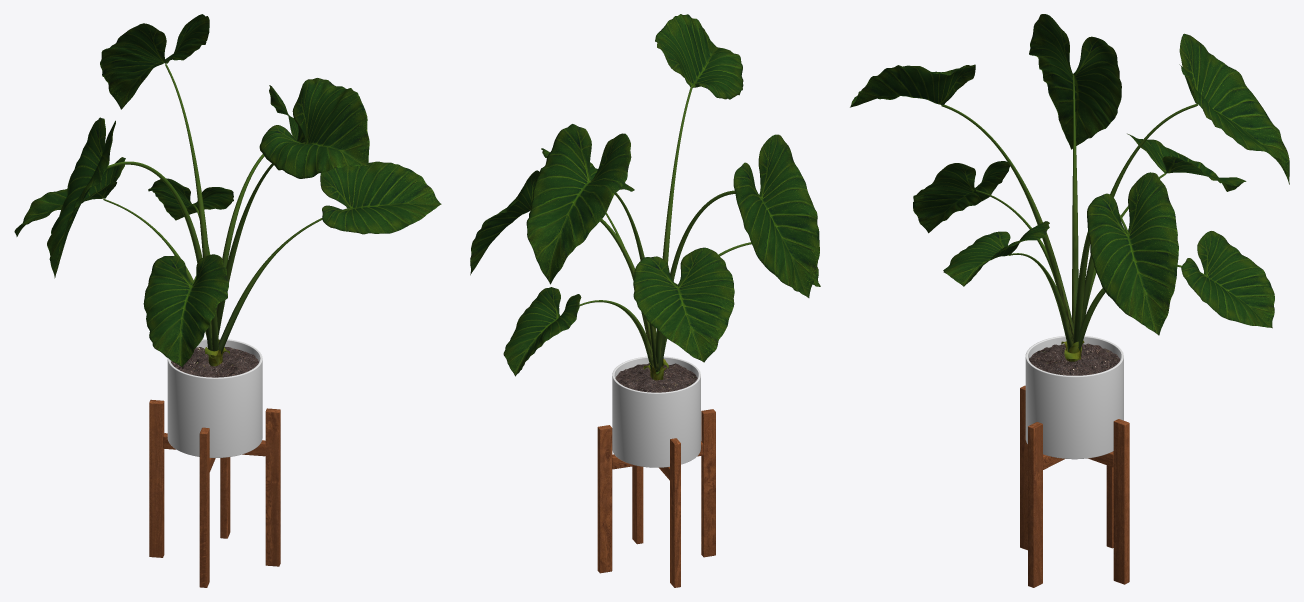
The model's file is Plant3.fbx.
3 renders of one model, left to right at view 1: azimuth 30°, elevation 25°; view 2: azimuth 150°, elevation 25°; view 3: azimuth 270°, elevation 25°, orthographic. The views are drawn at different scales.
Parts seen in each view (by area): view 1: Plant3; view 2: Plant3; view 3: Plant3.
Boxes of the visible parts, x1,y1,x2,y2 form: Plant3: (14,14,441,587); Plant3: (470,14,820,587); Plant3: (850,14,1289,587).
Size of the model in its own units: 126 by 182 by 137.
